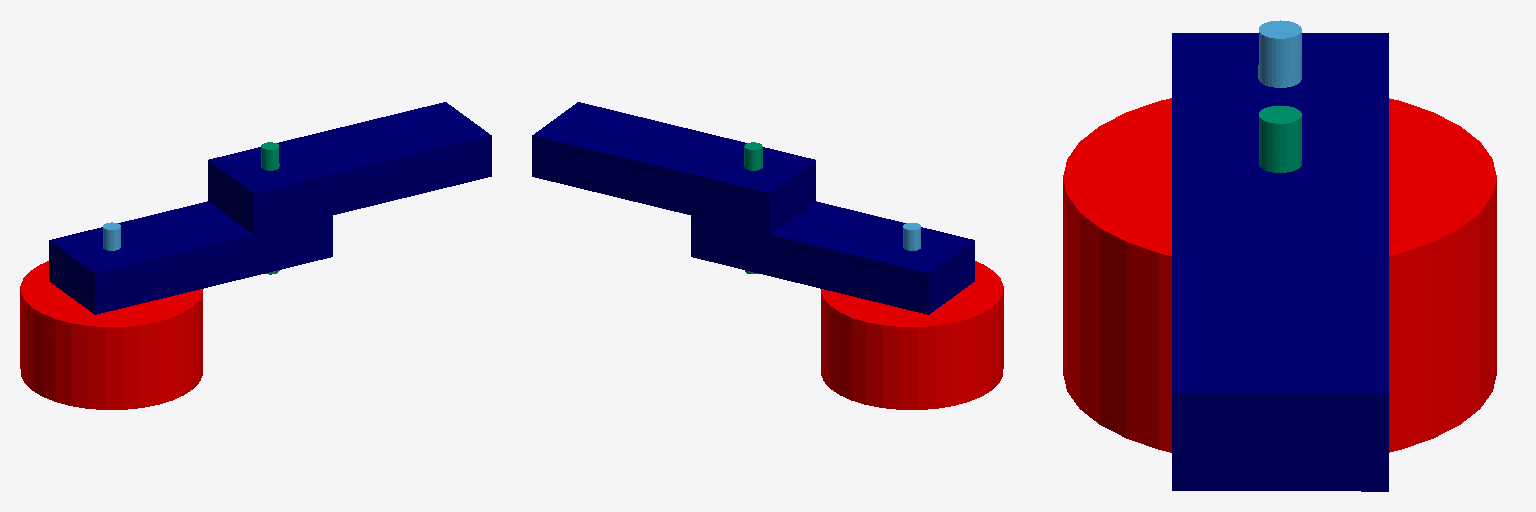
The robot description file, URDF, robot "Servos":
<robot name="Servos">
	<link name="base_link">
		<visual name="">
			<origin xyz="0 0 0.05" rpy="0 0 0"/>
			<geometry>
				<cylinder radius="0.1" length="0.1"/>
			</geometry>
			<material>
			<color rgba="1 0 0 1"/>
			</material>
		</visual>

		<collision name="">
			<origin xyz="0 0 0.05" rpy="0 0 0"/>
			<geometry>
				<cylinder radius="0.1" length="0.1"/>
			</geometry>
		</collision>

		<inertial>
			<mass value="5"/>
		</inertial>
	</link>
	
	<link name="arm_link">
	
		<visual name="arm">
			<origin xyz="0.1 0.025 0" rpy="0 0 0"/>
			<geometry>
				<box size="0.3 0.05 0.1"/>
			</geometry>
			<material>
			<color rgba="0 0 0.5 1"/>
			</material>
		</visual>
		
		<visual name="shaft">
			<origin xyz="0 0 0" rpy="1.57 0 0"/>
			<geometry>
			<cylinder radius="0.01" length="0.15"/>
			</geometry>
			<material name="">
			
			</material>
		</visual>


		<collision name="">
			<origin xyz="0.1 0.025 0" rpy="0 0 0"/>
			<geometry>
				<box size="0.3 0.05 0.1"/>
			</geometry>
		</collision>

		<inertial>
			<mass value="0.1"/>
		</inertial>
	</link>

	<joint name="arm servo" type="revolute">
		<origin xyz="0 0 0.1" rpy="1.57 0 0"/>
		<parent link="base_link"/>
		<child link="arm_link"/>
		<axis xyz="0.0 1.0 0.0"/>
		<limit lower="-1.57" upper="1.57" effort="10.0" velocity="5.0"/>
	</joint>
	
	<link name="arm2_link">
	
		<visual name="arm">
			<origin xyz="0.1 0.025 0" rpy="0 0 0"/>
			<geometry>
				<box size="0.3 0.05 0.1"/>
			</geometry>
			<material>
			<color rgba="0 0 0.5 1"/>
			</material>
		</visual>
		
		<visual name="shaft">
			<origin xyz="0 0 0" rpy="1.57 0 0"/>
			<geometry>
			<cylinder radius="0.01" length="0.15"/>
			</geometry>
			<material name="">
			
			</material>
		</visual>


		<collision name="">
			<origin xyz="0.1 0.025 0" rpy="0 0 0"/>
			<geometry>
				<box size="0.3 0.05 0.1"/>
			</geometry>
		</collision>

		<inertial>
			<mass value="0.01"/>
		</inertial>

	</link>
	
	<joint name="arm2 servo" type="revolute">
		<origin xyz="0.2 0.05 0" rpy="0 0 0"/>
		<parent link="arm_link"/>
		<child link="arm2_link"/>
		<axis xyz="0.0 1.0 0.0"/>
		<limit lower="-1.57" upper="1.57" effort="10.0" velocity="5.0"/>
	</joint>
</robot>

--- What the picture shows (computed from the rendered views, not written in the file) ---
Views: 3 orthographic renders of the robot side by side, from view 1: azimuth 30°, elevation 25°; view 2: azimuth 150°, elevation 25°; view 3: azimuth 270°, elevation 25°.
Robot: Servos — 3 links, 2 joints (2 revolute); root link base_link; default pose: every joint at zero.
Links seen in each view (by area): view 1: arm2_link, base_link, arm_link; view 2: arm2_link, base_link, arm_link; view 3: arm2_link, base_link, arm_link.
Link boxes in pixels (x1,y1,x2,y2): arm2_link: (208,102,491,274); base_link: (20,261,202,409); arm_link: (49,201,332,314); arm2_link: (532,102,815,273); base_link: (821,261,1003,409); arm_link: (691,201,974,314); arm2_link: (1172,106,1388,491); base_link: (1063,98,1496,452); arm_link: (1172,20,1388,117).
Size in the robot's own frame: 0.55 by 0.2 by 0.225 metres.
Geometry: primitives only (box / cylinder / sphere), no mesh files.